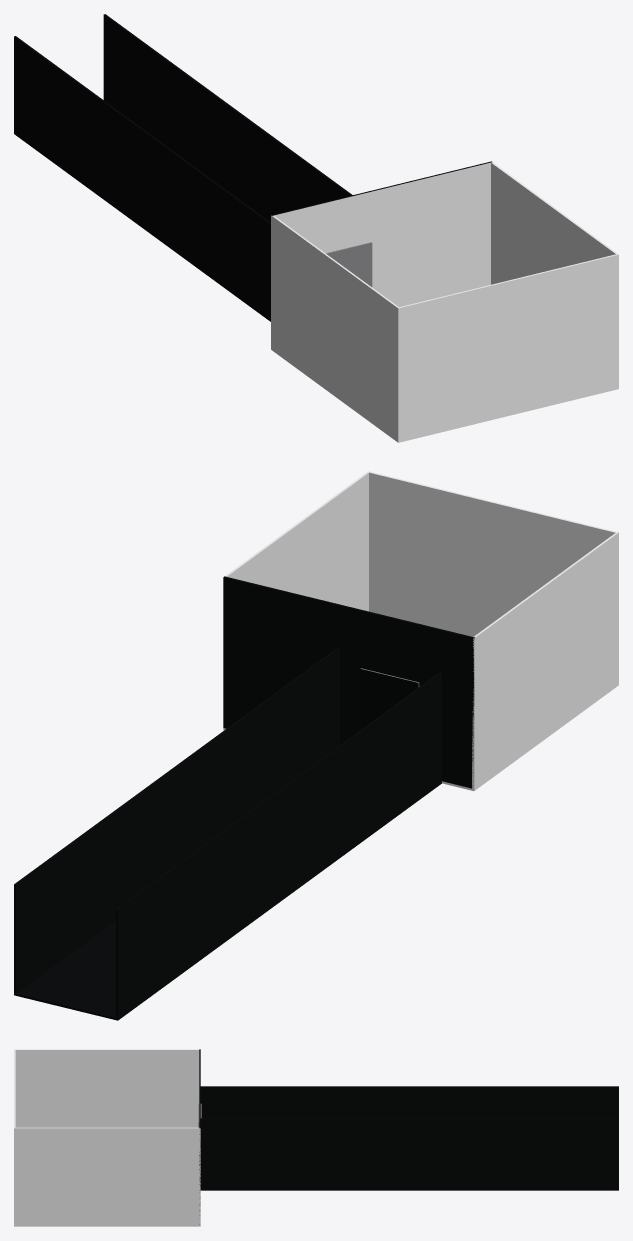
3 views of the same model, one above another, from view 1: azimuth 30°, elevation 25°; view 2: azimuth 150°, elevation 25°; view 3: azimuth 270°, elevation 25° (orthographic). The views are drawn at different scales.
Visible parts, largest first — view 1: F7, F7_door; view 2: F7, F7_door; view 3: F7.
Part boxes in pixels (box(x1,y1,x2,y2)): F7: box(14, 14, 618, 442); F7_door: box(326, 242, 372, 286); F7: box(14, 471, 618, 1020); F7_door: box(360, 668, 419, 729); F7: box(14, 1049, 618, 1226).
Bounding box in the file's own units: 603 × 351 × 1953.
